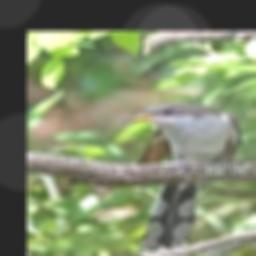Cuckoo: (123, 100, 241, 250)
